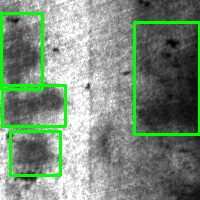patches: (134, 23, 199, 134), (1, 13, 42, 89), (2, 85, 65, 126), (10, 131, 60, 175)
